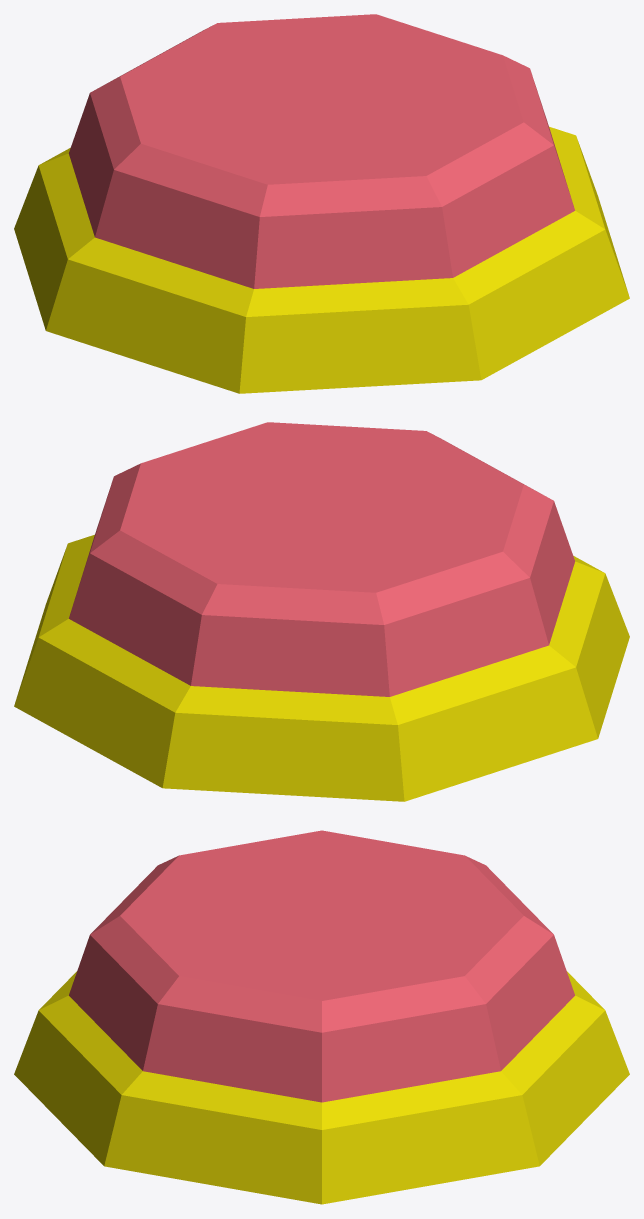
File: turret-base.fbx
3 views of the same model, one above another, from view 1: azimuth 30°, elevation 25°; view 2: azimuth 150°, elevation 25°; view 3: azimuth 270°, elevation 25° (orthographic). The views are drawn at different scales.
Visible parts, largest first — view 1: turret-base; view 2: turret-base; view 3: turret-base.
Boxes of the visible parts, bbox=[...] form: turret-base: bbox=[14, 14, 629, 393]; turret-base: bbox=[14, 422, 629, 801]; turret-base: bbox=[14, 830, 629, 1204].
Size of the model in its own units: 1.4 by 0.3977 by 1.4.
